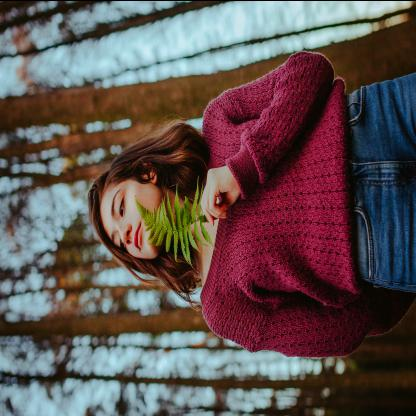Eye: (116, 195, 126, 217), (117, 236, 125, 250)
Mouth: (132, 220, 144, 250)
Nose: (117, 222, 132, 244)
